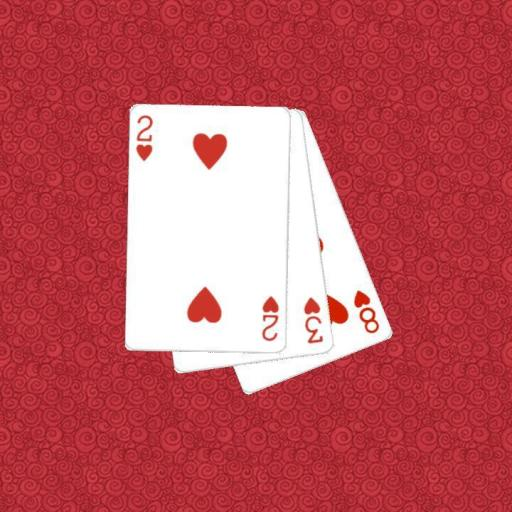card-corner: (351, 286, 381, 336), (301, 294, 325, 346), (259, 293, 281, 343), (133, 112, 154, 163)
